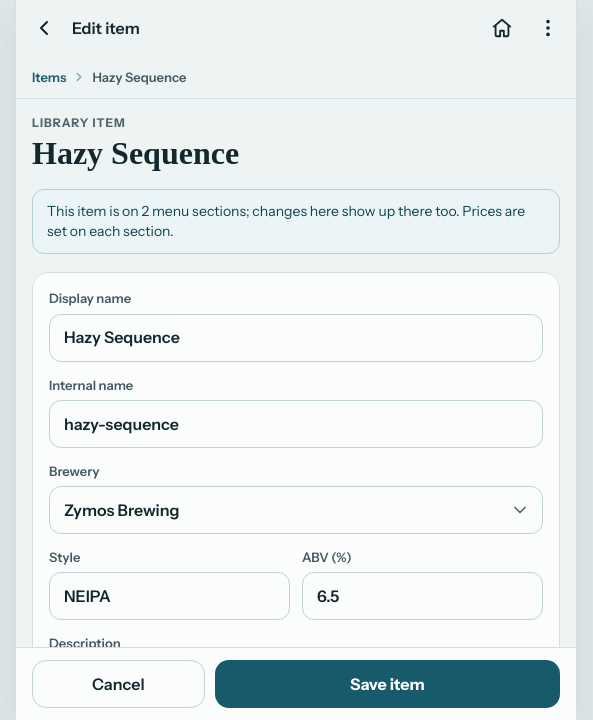
Test: LibraryItemPage › shows a save error and stays on the form
Click the button "Save item" at (387, 684), box [215,660,560,708]
(page scrolled)
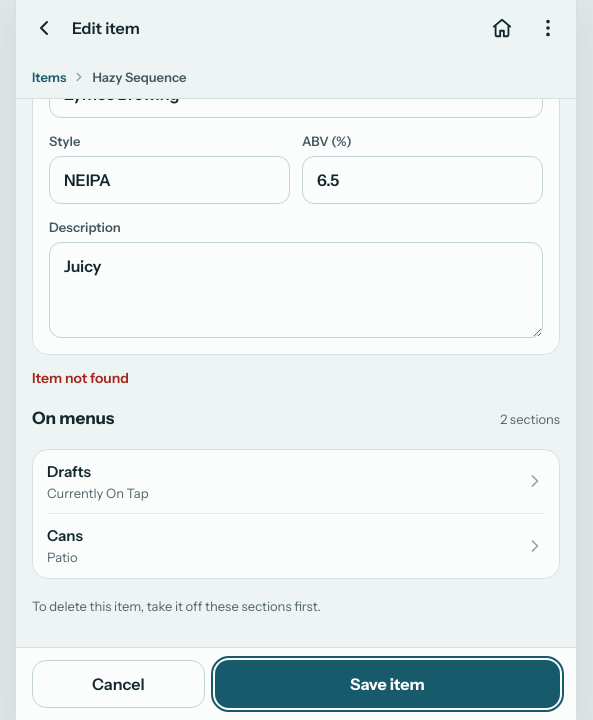
Result: the message reads "Item not found" at [32,369,129,387]
